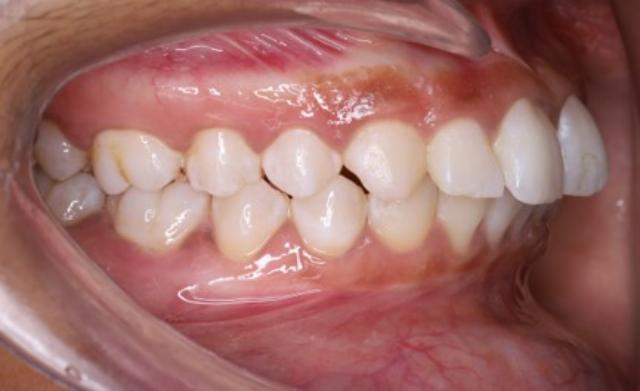canine class II 1/2: (290, 107, 438, 277)
molar class III 1/2: (88, 124, 210, 260)
